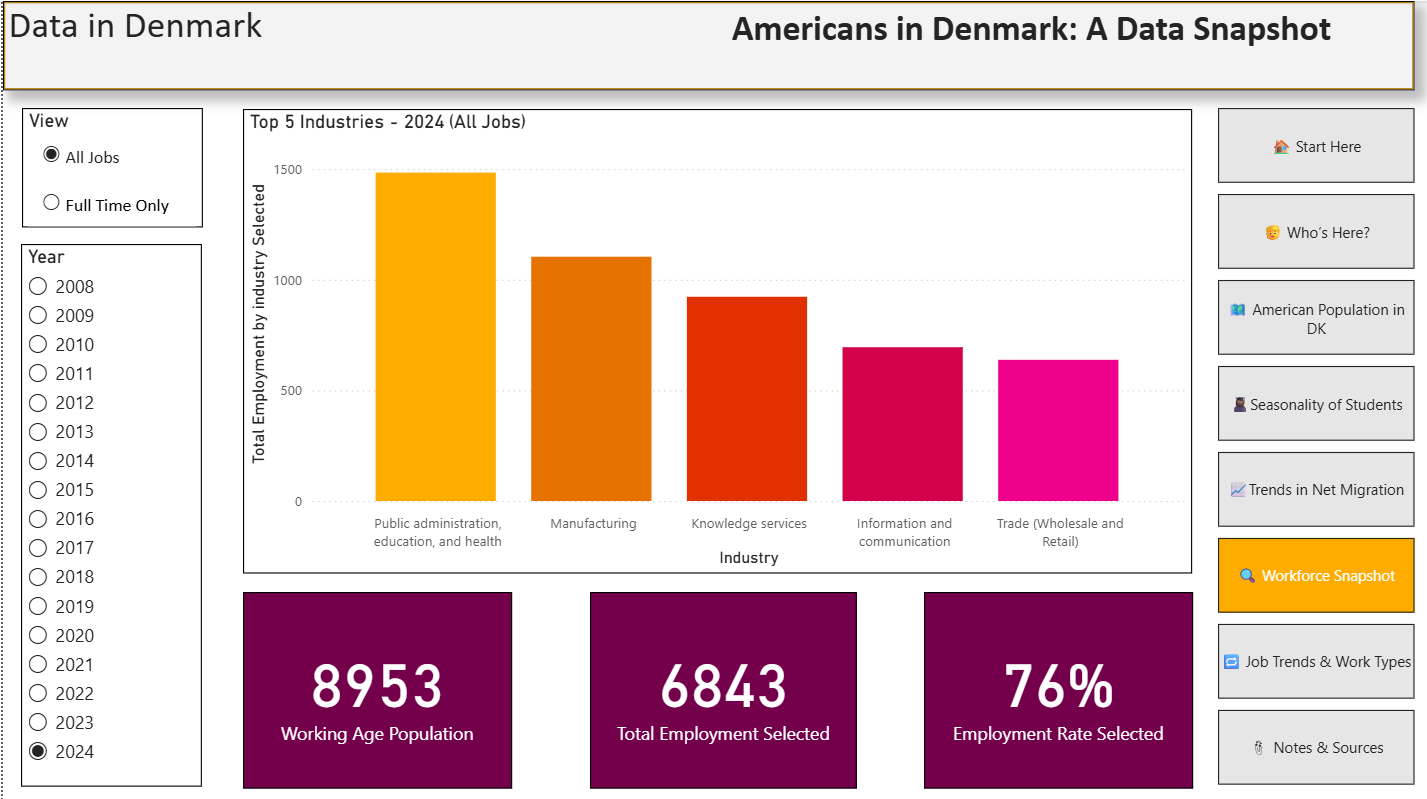

The page's visual inventory and layout, read from the dashboard file:
{"tool":"powerbi","page":{"name":"🔍 Workforce Snapshot","canvas":[1280,720],"ordinal":5},"visuals":[{"type":"shape","box":[0,0,1264,80],"z":0,"group":"g1"},{"type":"listSlicer","fields":{"Values":["Dim_Year.Year"]},"box":[16.2,217.6,162.2,486.5],"z":0},{"type":"group","id":"g1","title":"Group 3","box":[0,0,1264,80],"z":1000},{"type":"columnChart","fields":{"Category":["dim_industry.Industry"],"Y":["Measures (do not delete).Total Employment by industry Selected"],"Series":["dim_industry.Industry"]},"box":[214.7,96.3,850,416.2],"z":1000,"group":"g2"},{"type":"listSlicer","title":"View","fields":{"Values":["JobTypeToggle.JobType"]},"box":[16.6,95.8,162.2,107.3],"z":2000},{"type":"card","fields":{"Values":["Measures (do not delete).Working Age Population"]},"box":[214.7,528.7,240.5,175.7],"z":2000,"group":"g2"},{"type":"pageNavigator","box":[1088,96,176,608],"z":3000},{"type":"textbox","title":"Data in Denmark","box":[0,0,265,80],"z":4000,"group":"g3"},{"type":"group","id":"g2","title":"Group 1","box":[214.7,96.3,850.6,608.3],"z":4000},{"type":"textbox","box":[640,0,623.8,80],"z":5000,"group":"g3"},{"type":"card","fields":{"Values":["Measures (do not delete).Total Employment Selected"]},"box":[525.5,528.7,239.2,175.7],"z":5000,"group":"g2"},{"type":"group","id":"g3","title":"Group 4","box":[0,0,1263.8,80],"z":5002,"group":"g1"},{"type":"card","fields":{"Values":["Measures (do not delete).Employment Rate Selected"]},"box":[824.2,528.7,240.5,175.7],"z":6000,"group":"g2"}]}

Visuals, with their boxes in screenshot pixels (x1, y1, x2, y2), scaled from the page's 1280x720 canvas onto the 1427x799 screenshot:
shape: l=0, t=0, r=1409, b=89
listSlicer - Dim_Year.Year: l=18, t=241, r=199, b=781
"Group 3" group: l=0, t=0, r=1409, b=89
columnChart - dim_industry.Industry x Measures (do not delete).Total Employment by industry Selected: l=239, t=107, r=1187, b=569
"View" listSlicer: l=19, t=106, r=199, b=225
card - Measures (do not delete).Working Age Population: l=239, t=587, r=507, b=782
pageNavigator: l=1213, t=107, r=1409, b=781
"Data in Denmark" textbox: l=0, t=0, r=295, b=89
"Group 1" group: l=239, t=107, r=1188, b=782
textbox: l=714, t=0, r=1409, b=89
card - Measures (do not delete).Total Employment Selected: l=586, t=587, r=853, b=782
"Group 4" group: l=0, t=0, r=1409, b=89
card - Measures (do not delete).Employment Rate Selected: l=919, t=587, r=1187, b=782
